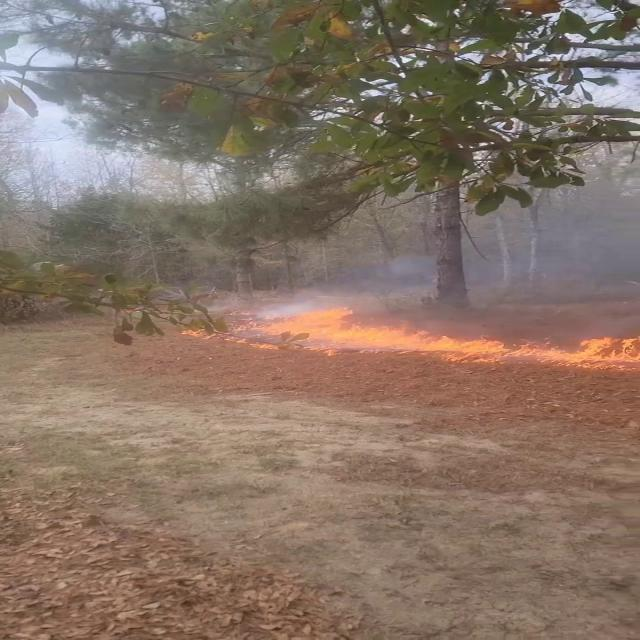Fire: (230, 299, 638, 362)
Smoke: (279, 167, 639, 313)
